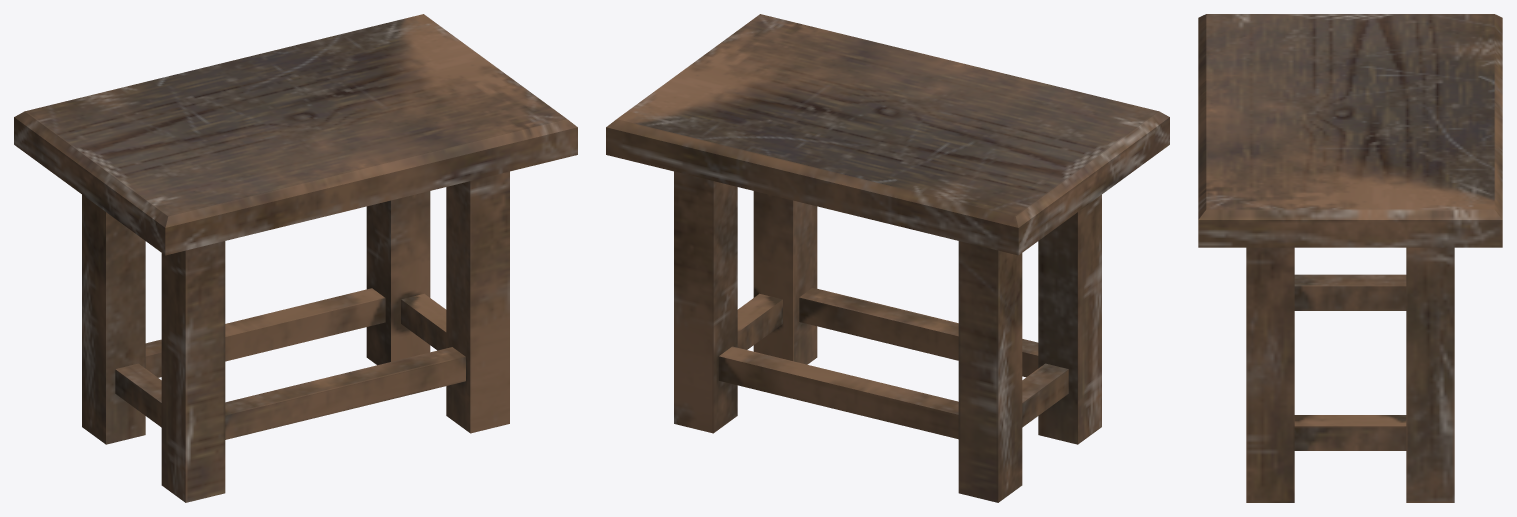
The model's file is SM_Chair_Bunker.glb.
3 renders of one model, left to right at view 1: azimuth 30°, elevation 25°; view 2: azimuth 150°, elevation 25°; view 3: azimuth 270°, elevation 25°, orthographic.
Parts seen in each view (by area): view 1: SM_Stool_Bunker; view 2: SM_Stool_Bunker; view 3: SM_Stool_Bunker.
Part boxes in pixels (box(x1,y1,x2,y2)): SM_Stool_Bunker: box(14, 14, 577, 502); SM_Stool_Bunker: box(606, 14, 1169, 502); SM_Stool_Bunker: box(1198, 14, 1502, 502).
Bounding box in the file's own units: 0.8097 × 0.582 × 0.5146.
1 material, 1 textured.
